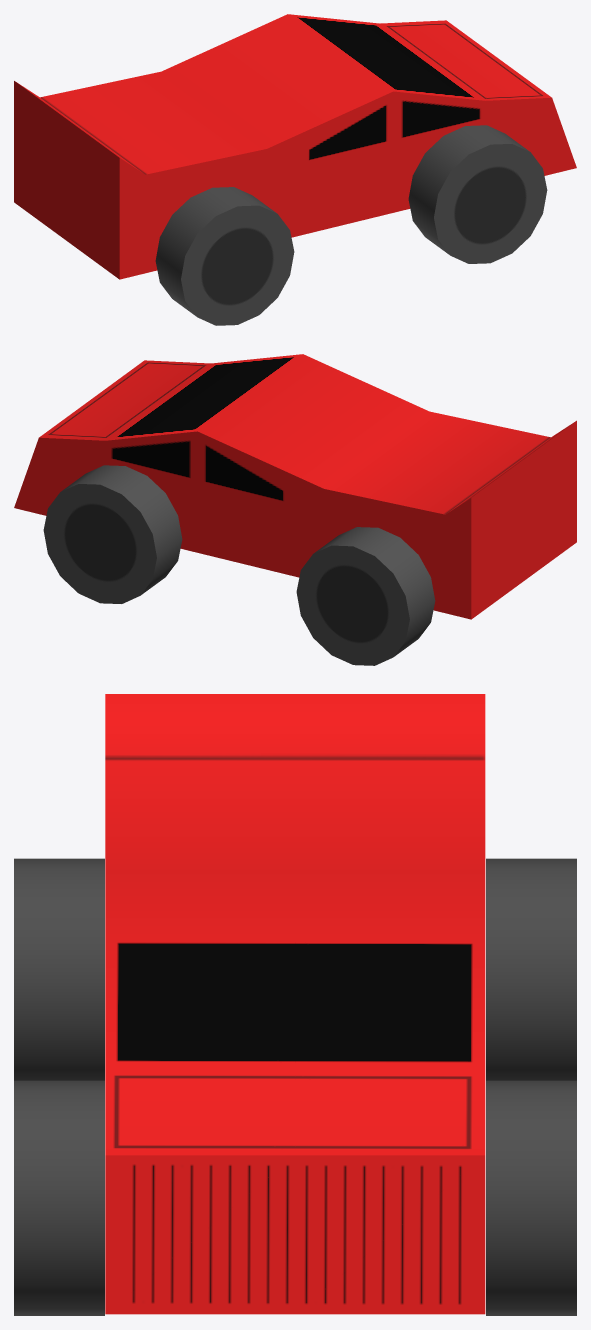
Rendered from ToyCar.fbx.
The picture shows the model from 3 angles, top to bottom: view 1: azimuth 30°, elevation 25°; view 2: azimuth 150°, elevation 25°; view 3: azimuth 270°, elevation 25°; orthographic projection. The views are drawn at different scales.
Visible parts, largest first — view 1: pCylinder6; view 2: pCylinder6; view 3: pCylinder6.
Boxes of the visible parts, <box> form: pCylinder6: <box>14,14,576,325</box>; pCylinder6: <box>14,354,576,665</box>; pCylinder6: <box>14,694,576,1315</box>.
Bounding box in the file's own units: 5 × 1.79 × 2.97.
1 material, 1 textured.
